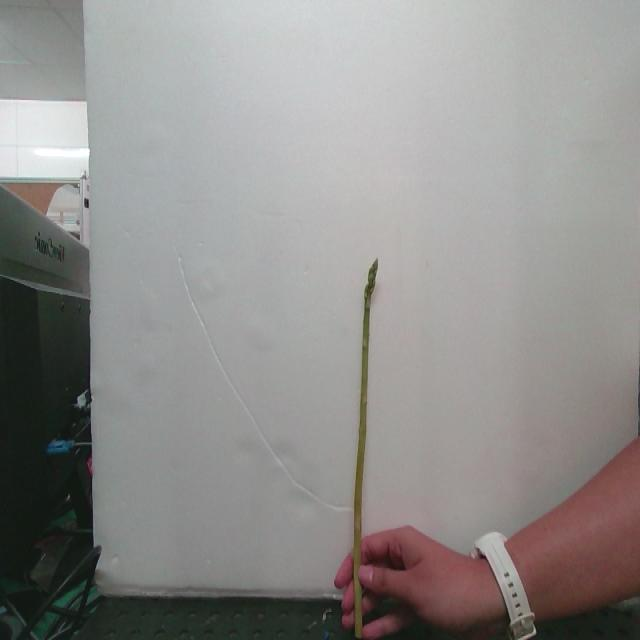aspargus: (336, 262, 378, 640)
